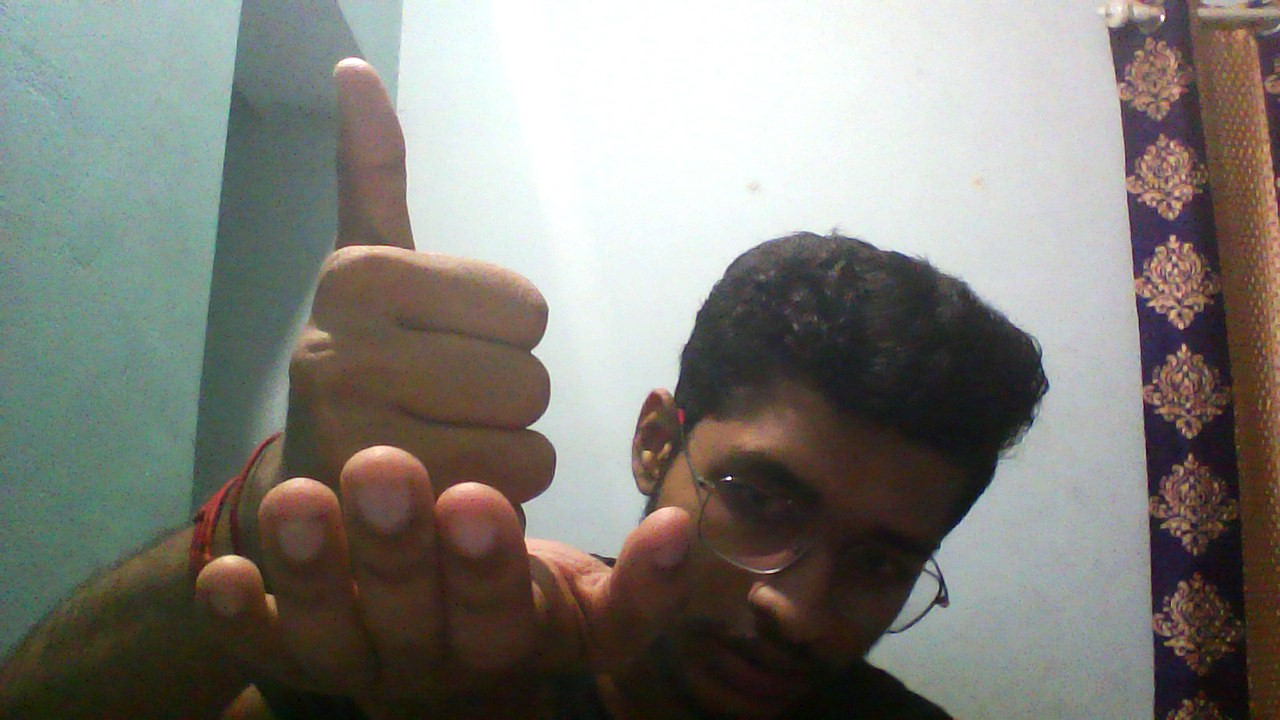Help: (99, 19, 783, 677)
